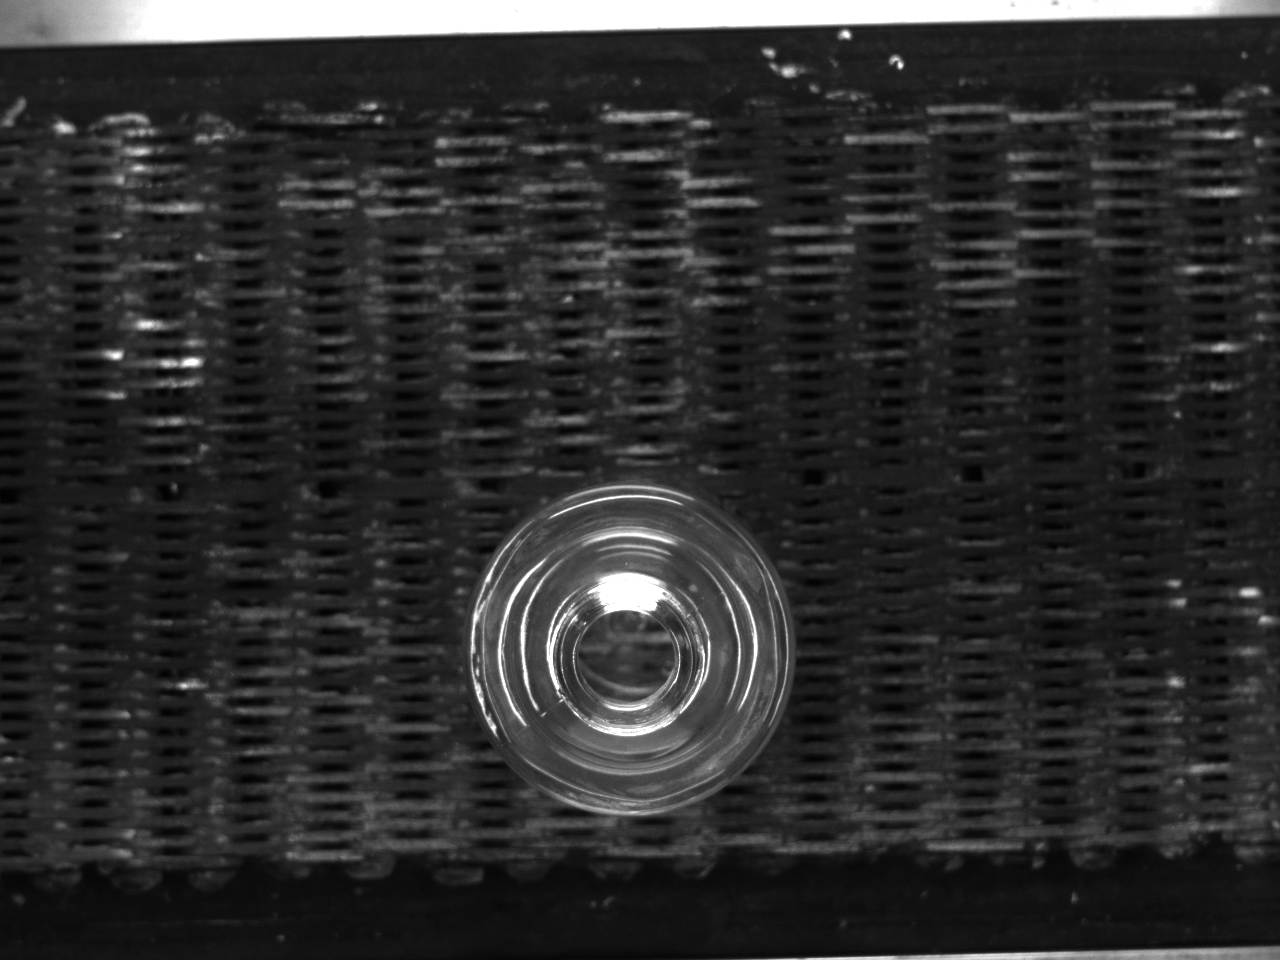bottleneck: (551, 571, 710, 736)
